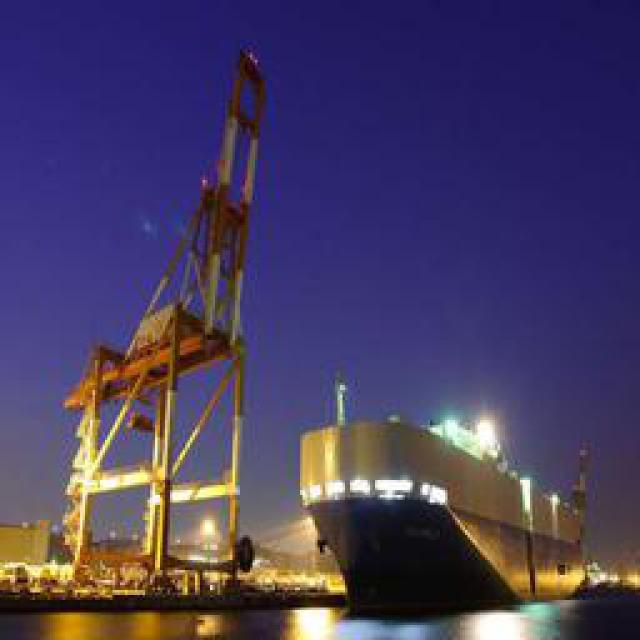Ship: (289, 365, 605, 624)
